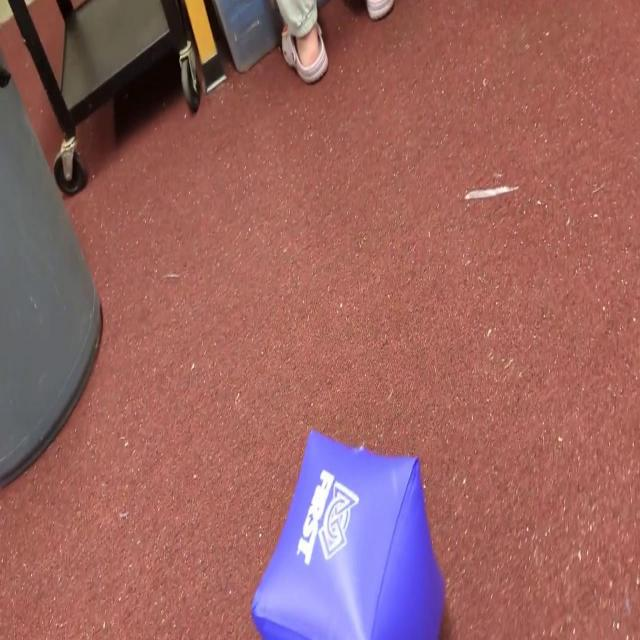frc_cube: (248, 427, 439, 640)
